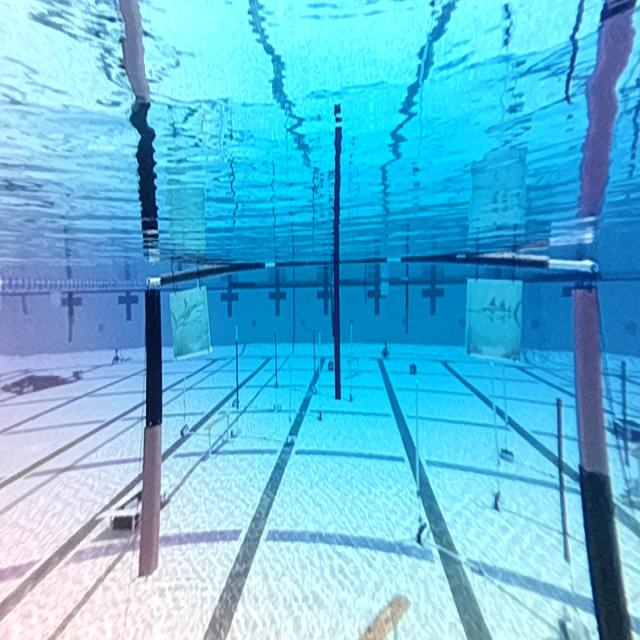pointed_nose: (461, 282, 527, 355)
round_nose: (170, 276, 207, 355)
